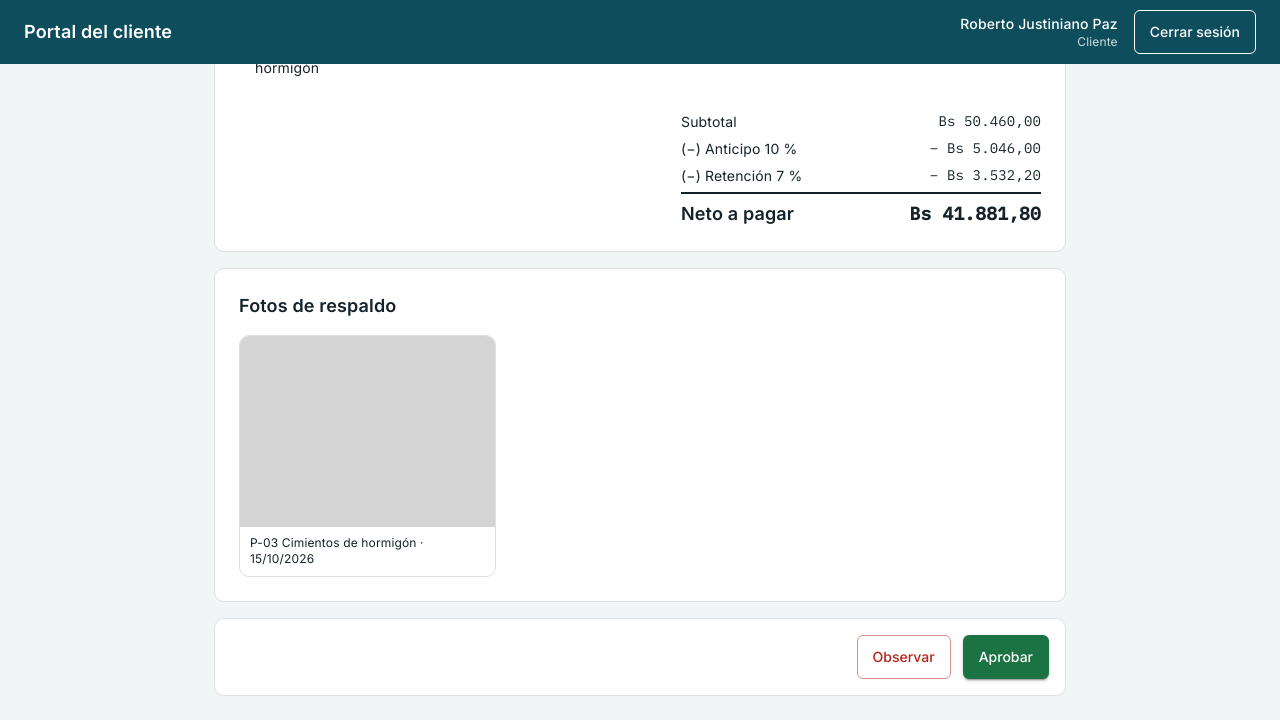
it: Aprobar (criterios 5 y 6) › si la saga falla, queda OBSERVADA con el motivo del fallo
(page scrolled)
Click the button "Aprobar".
click(1006, 657)  # box top-left (963, 635), bottom-right (1049, 679)
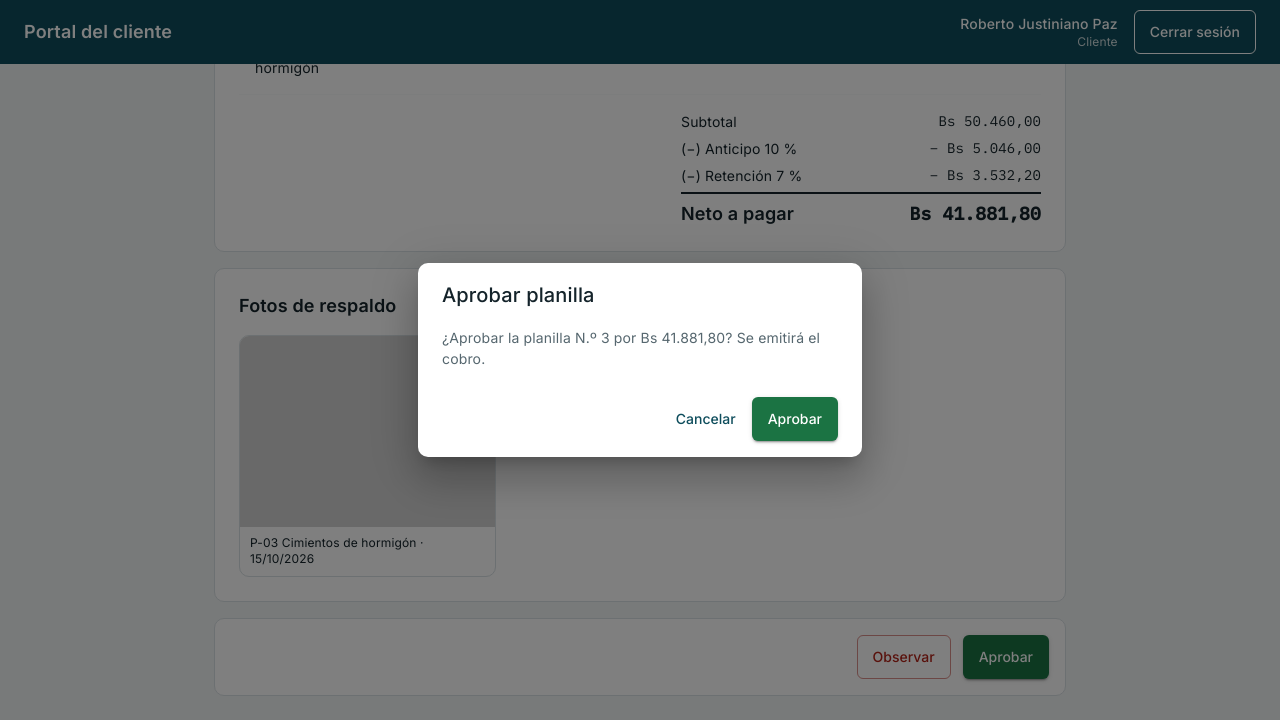
Now the text "¿Aprobar la planilla N.º 3 por Bs 41.881,80? Se emitirá el cobro." is shown, box top-left (442, 327), bottom-right (838, 369)
Click the button "Aprobar".
click(795, 419)  # box top-left (752, 397), bottom-right (838, 441)
Wait 2000 ms
(page scrolled)
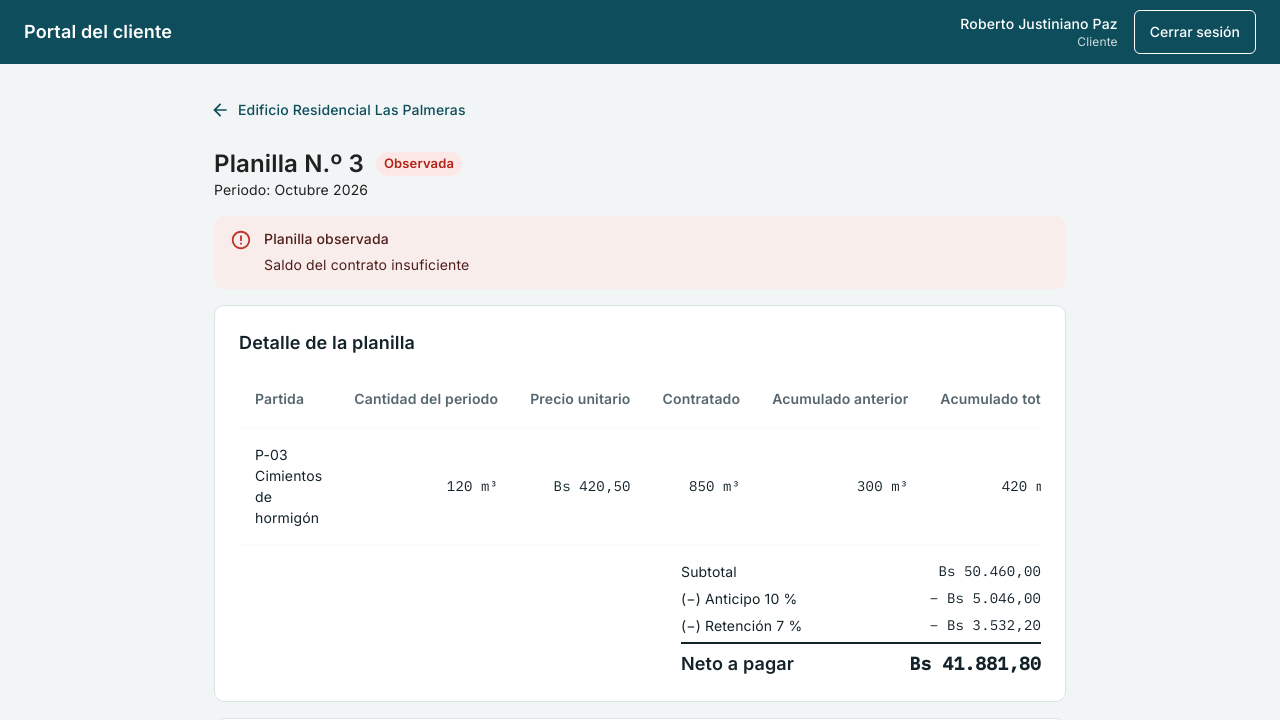
Now the text "Planilla observada" is shown, box top-left (264, 230), bottom-right (389, 247)
Now the text "Saldo del contrato insuficiente" is shown, box top-left (264, 256), bottom-right (469, 273)
